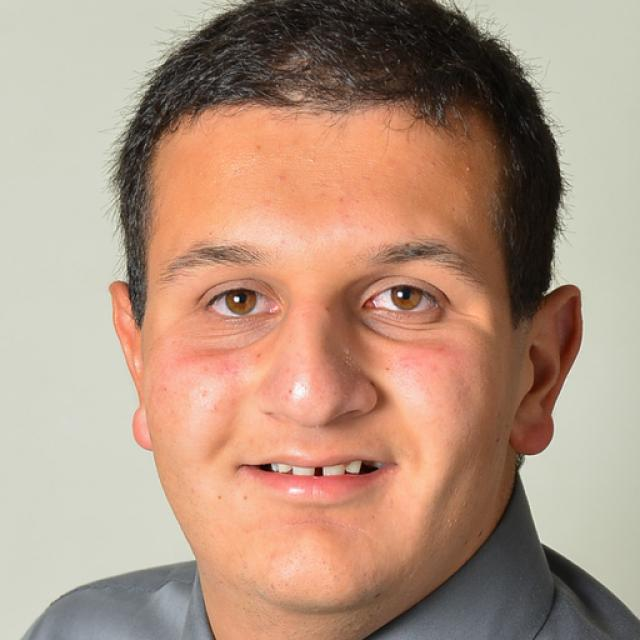Acne: (207, 399, 221, 416), (460, 162, 474, 176)
